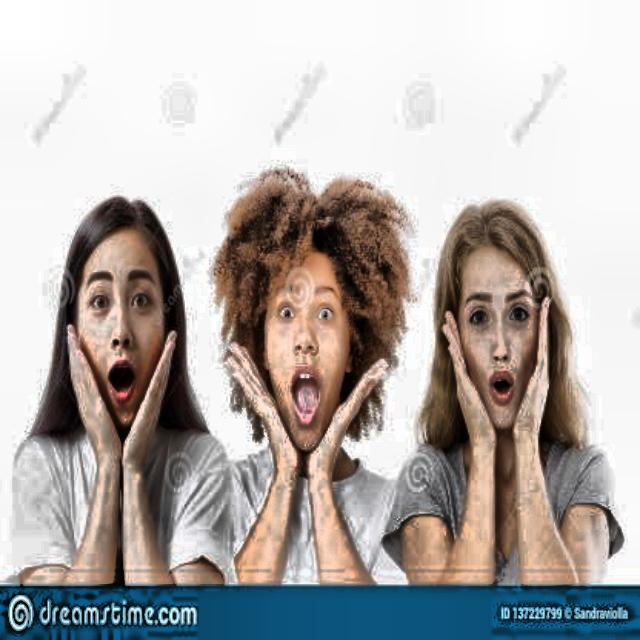surprised: (425, 202, 609, 455), (210, 202, 380, 445), (55, 201, 178, 450)
